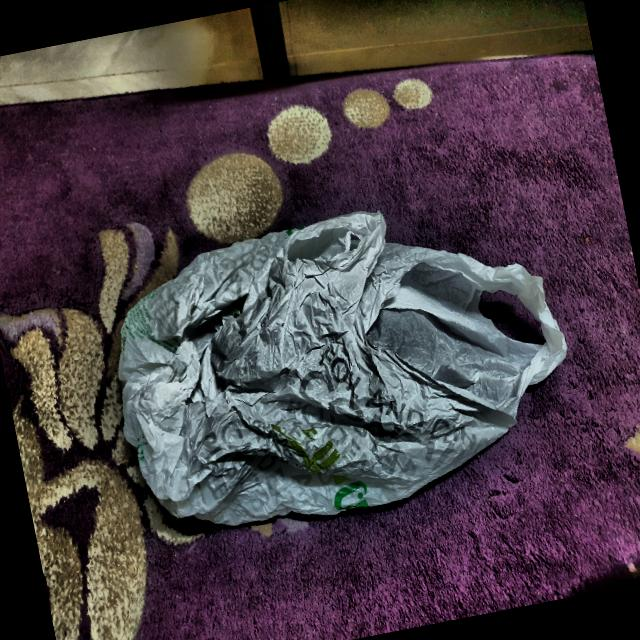plastic bag: (75, 156, 604, 568)
